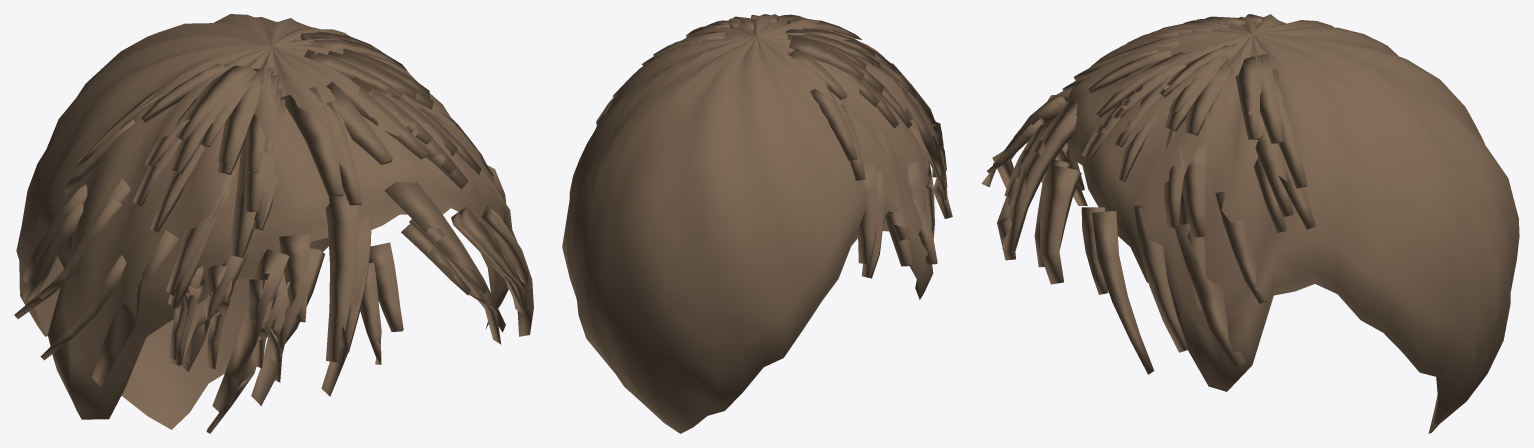
Rendered from Char2_HairShort.fbx.
3 renders of one model, left to right at view 1: azimuth 30°, elevation 25°; view 2: azimuth 150°, elevation 25°; view 3: azimuth 270°, elevation 25°, orthographic. The views are drawn at different scales.
Visible parts, largest first — view 1: Char2_HairShort; view 2: Char2_HairShort; view 3: Char2_HairShort.
Boxes of the visible parts, x1,y1,x2,y2 form: Char2_HairShort: (14, 14, 533, 433); Char2_HairShort: (562, 14, 952, 433); Char2_HairShort: (981, 14, 1519, 433).
Bounding box in the file's own units: 0.1977 × 0.1806 × 0.2202.
